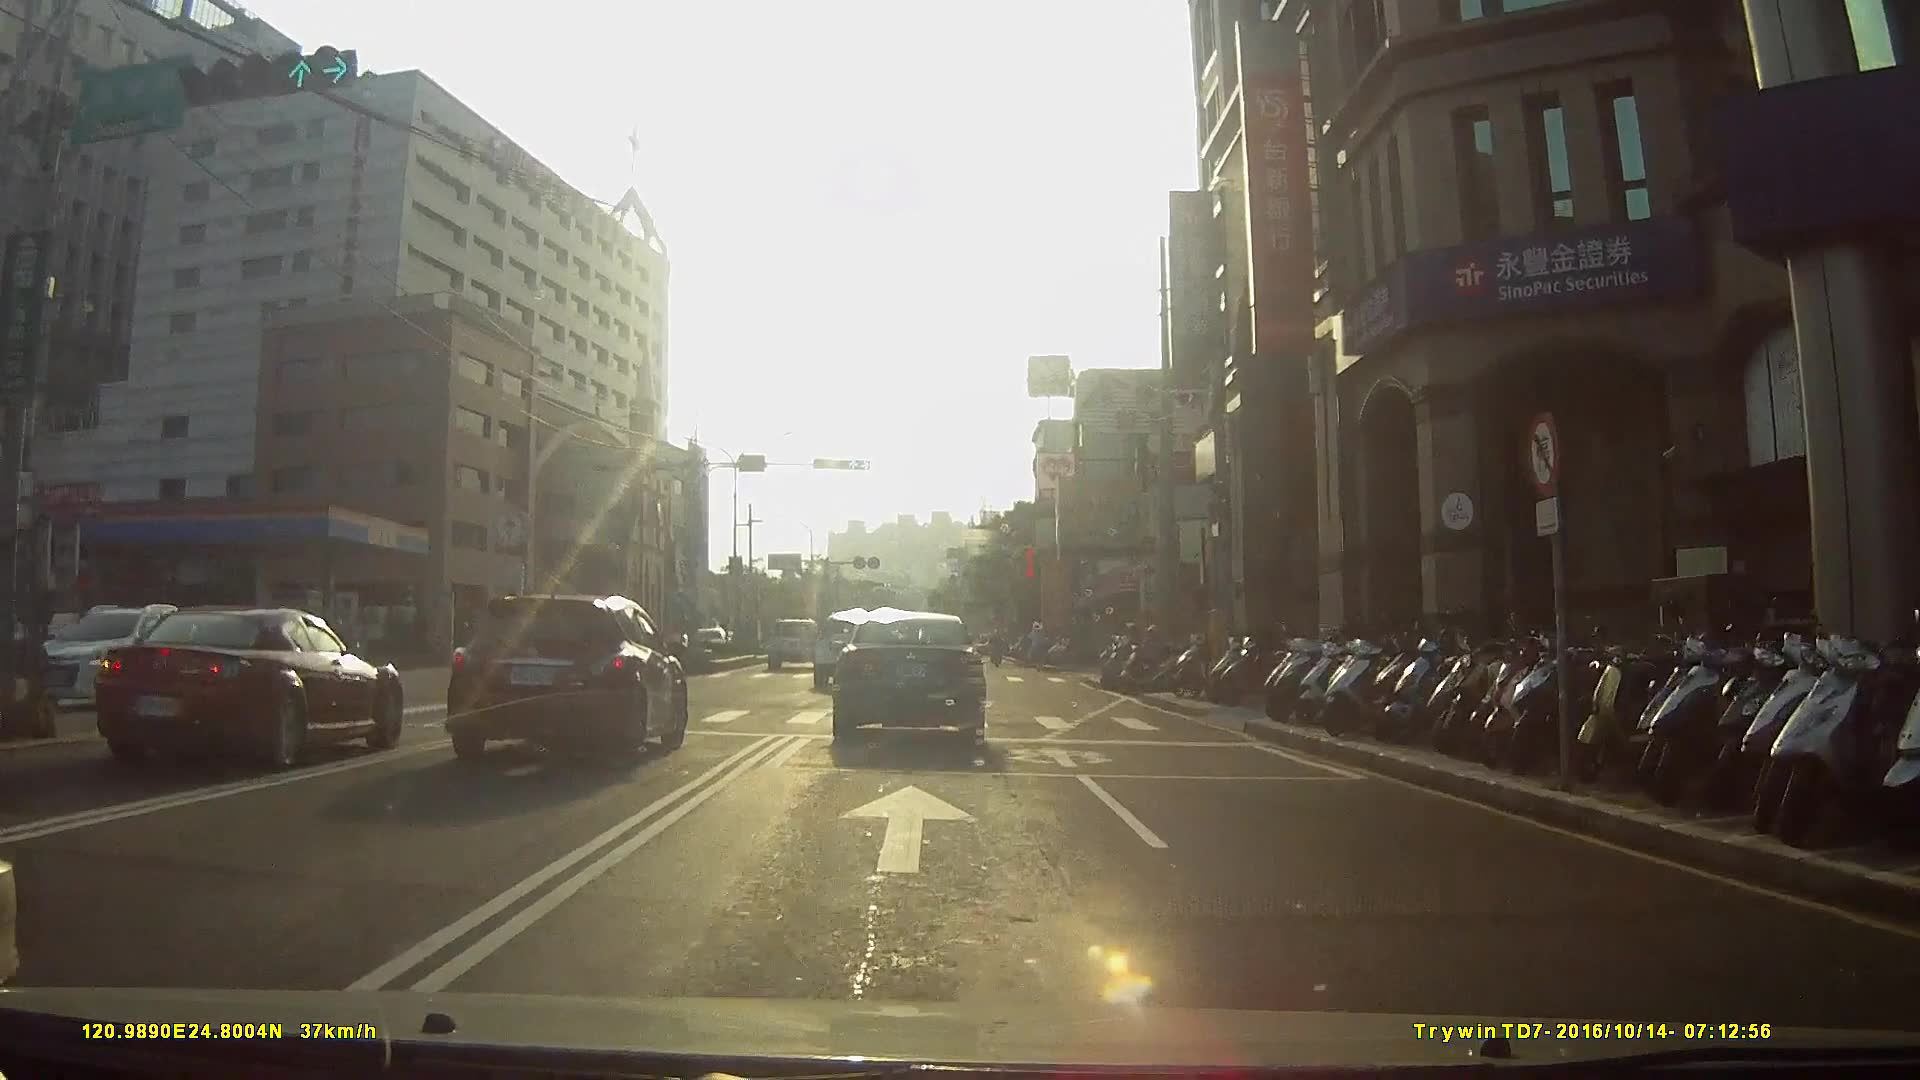rider: (1112, 620, 1194, 691)
vehicle: (76, 603, 409, 782), (439, 593, 704, 767), (827, 607, 999, 757), (813, 606, 892, 690), (768, 614, 827, 669)
